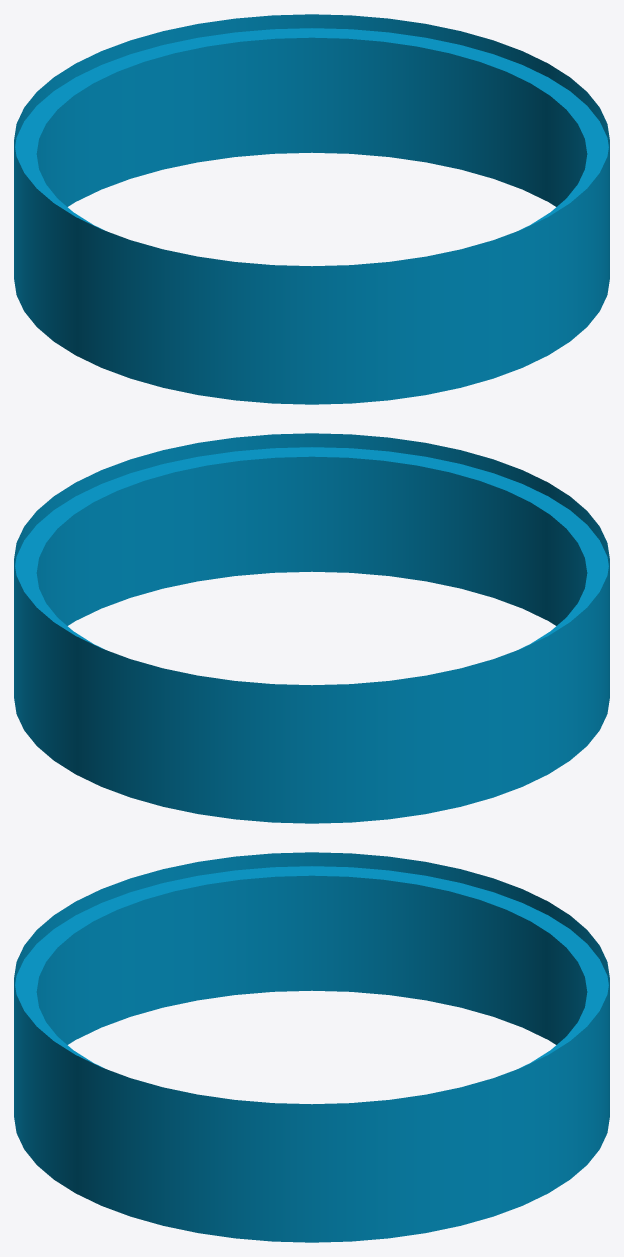
The model's file is original-36.obj.
3 renders of one model, top to bottom at view 1: azimuth 30°, elevation 25°; view 2: azimuth 150°, elevation 25°; view 3: azimuth 270°, elevation 25°, orthographic.
Parts seen in each view (by area): view 1: #ID366; view 2: #ID366; view 3: #ID366.
Part boxes in pixels (left/top/right/bottom): #ID366: left=14, top=14, right=609, bottom=404; #ID366: left=14, top=433, right=609, bottom=823; #ID366: left=14, top=852, right=609, bottom=1242.
Size of the model in its own units: 0.1066 by 0.0273 by 0.1066.
